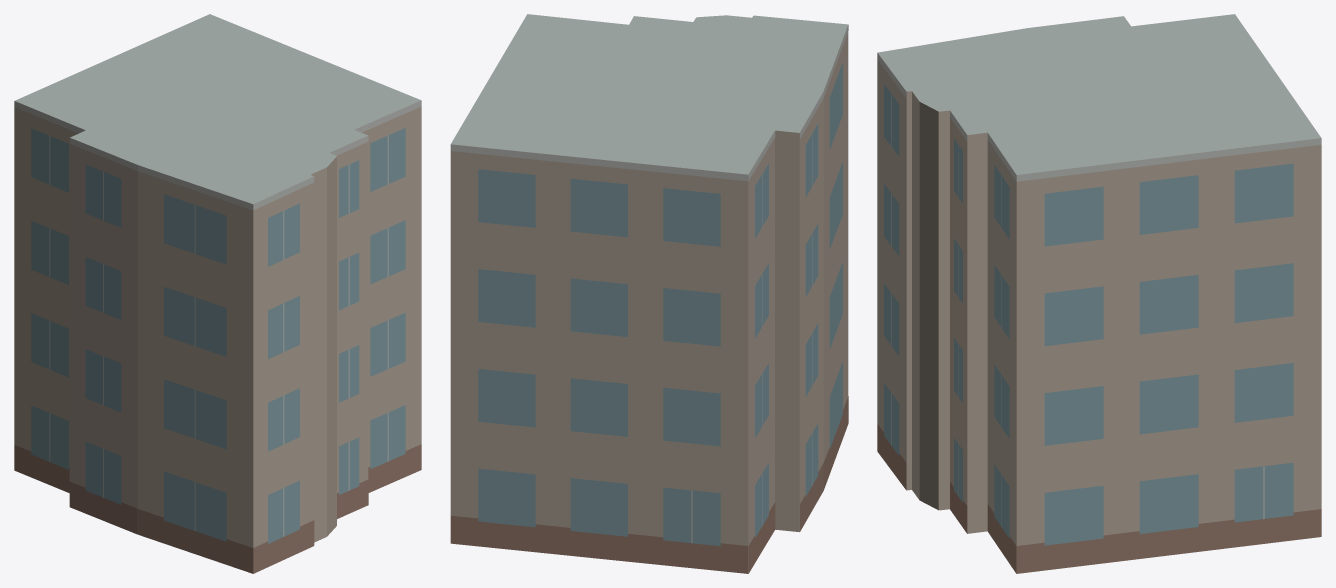
Rendered from survey-upis-32595688.glb.
3 views of the same model, side by side, from view 1: azimuth 30°, elevation 25°; view 2: azimuth 150°, elevation 25°; view 3: azimuth 270°, elevation 25° (orthographic). The views are drawn at different scales.
Parts seen in each view (by area): view 1: survey-upis-32595688.tmp; view 2: survey-upis-32595688.tmp; view 3: survey-upis-32595688.tmp.
Boxes of the visible parts, bbox=[...] form: survey-upis-32595688.tmp: bbox=[14, 14, 421, 573]; survey-upis-32595688.tmp: bbox=[450, 14, 848, 573]; survey-upis-32595688.tmp: bbox=[877, 14, 1321, 573].
Size of the model in its own units: 12.74 by 14.7 by 14.85.
